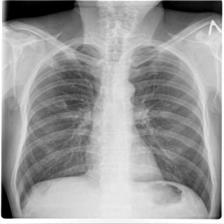tuberculosis: (7, 38, 214, 217)
